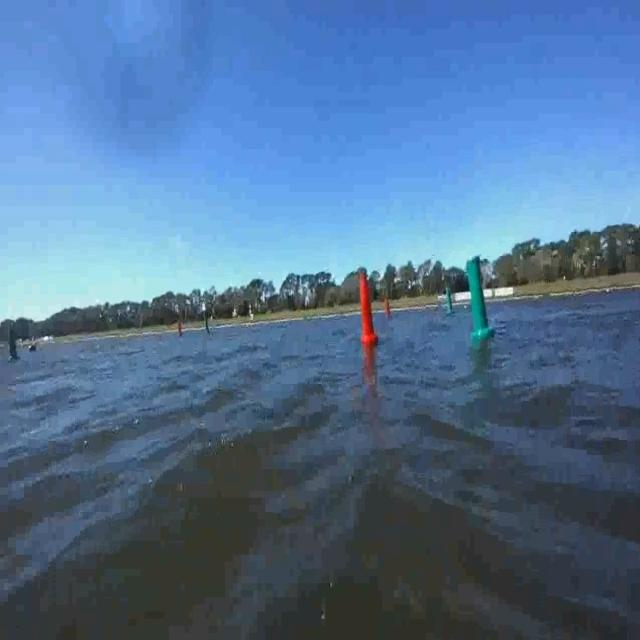green-column-buoy: (464, 256, 495, 341), (5, 326, 21, 365), (446, 288, 456, 318), (204, 314, 212, 335)
red-column-buoy: (356, 274, 377, 346), (384, 299, 393, 319), (178, 320, 184, 337)
